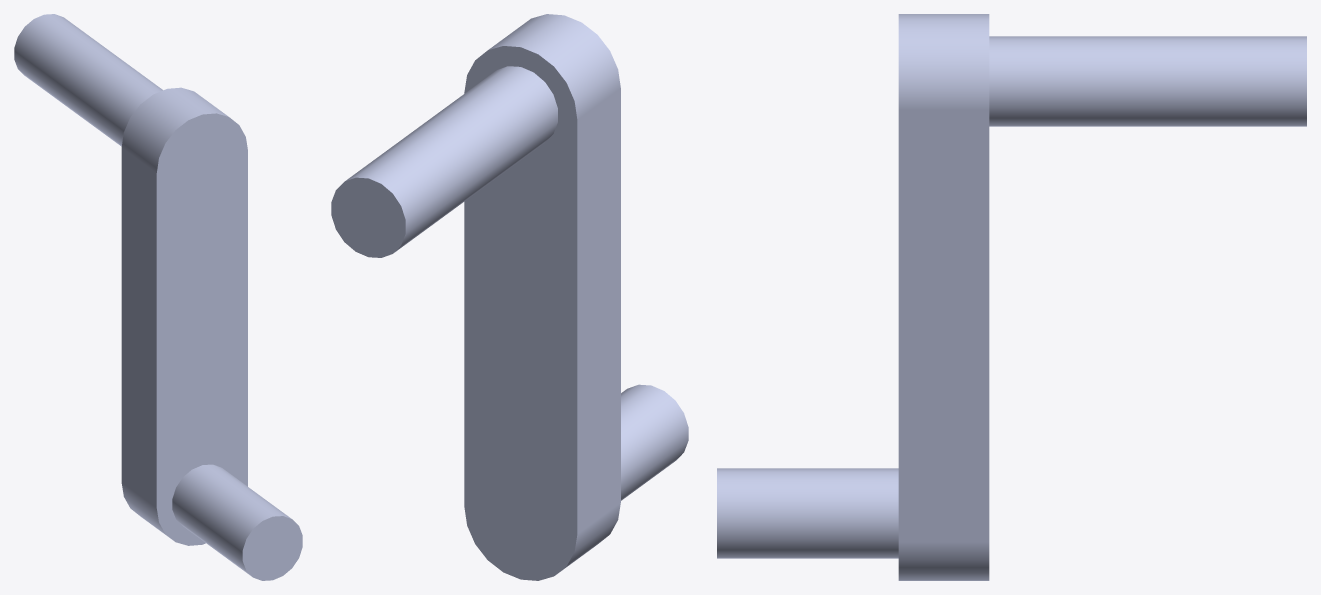
The model's file is shortRod.fbx.
3 renders of one model, left to right at view 1: azimuth 30°, elevation 25°; view 2: azimuth 150°, elevation 25°; view 3: azimuth 270°, elevation 25°, orthographic. The views are drawn at different scales.
Visible parts, largest first — view 1: 凸台-拉伸3; view 2: 凸台-拉伸3; view 3: 凸台-拉伸3.
Boxes of the visible parts, x1=… form: 凸台-拉伸3: x1=14, y1=14, x2=302, y2=580; 凸台-拉伸3: x1=331, y1=14, x2=688, y2=580; 凸台-拉伸3: x1=717, y1=14, x2=1306, y2=580.
Bounding box in the file's own units: 0.3543 × 1.59 × 1.54.
